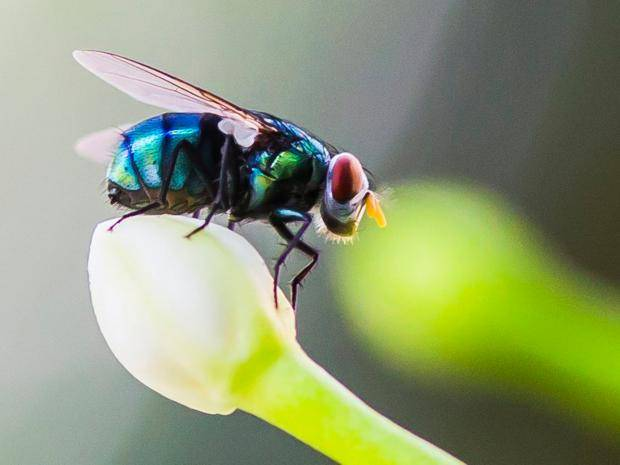house fly: (67, 46, 401, 321)
